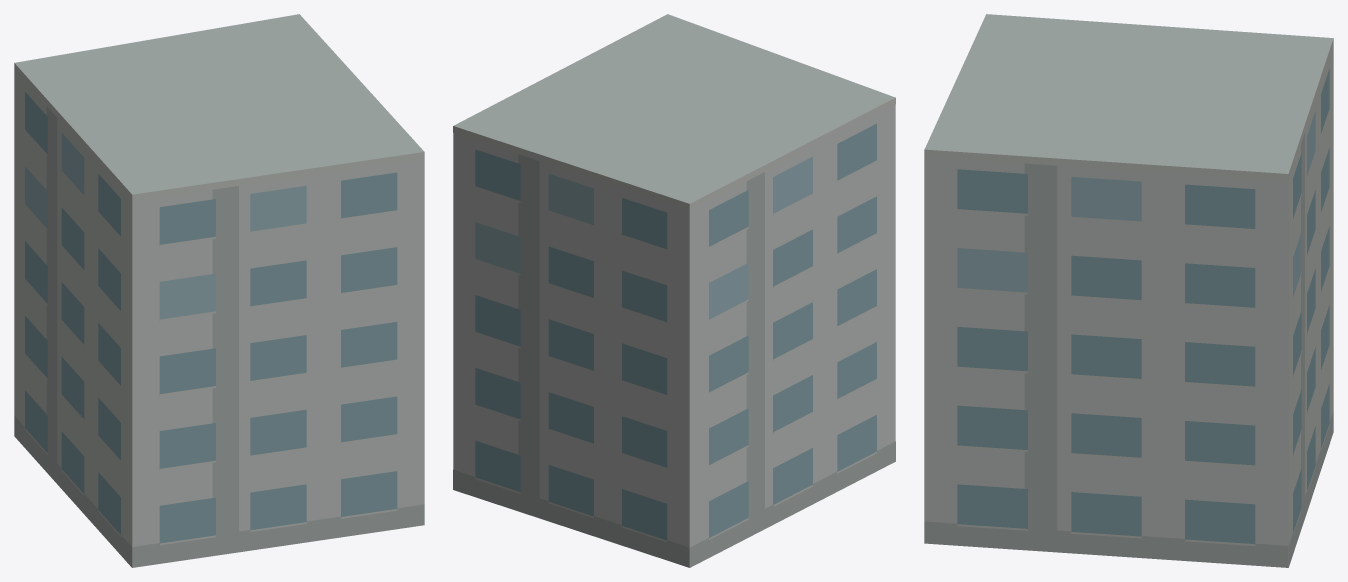
The model's file is survey-upis-32650500.glb.
The picture shows the model from 3 angles, left to right: view 1: azimuth 30°, elevation 25°; view 2: azimuth 150°, elevation 25°; view 3: azimuth 270°, elevation 25°; orthographic projection. The views are drawn at different scales.
Visible parts, largest first — view 1: survey-upis-32650500.tmp; view 2: survey-upis-32650500.tmp; view 3: survey-upis-32650500.tmp.
Part boxes in pixels (x1=…): survey-upis-32650500.tmp: x1=14, y1=14, x2=424, y2=567; survey-upis-32650500.tmp: x1=453, y1=14, x2=895, y2=567; survey-upis-32650500.tmp: x1=924, y1=14, x2=1333, y2=567.
Size of the model in its own units: 11.51 by 13.2 by 12.44.
